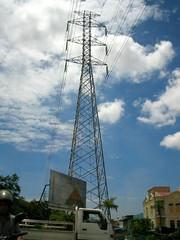power_tower: (64, 7, 115, 220)
